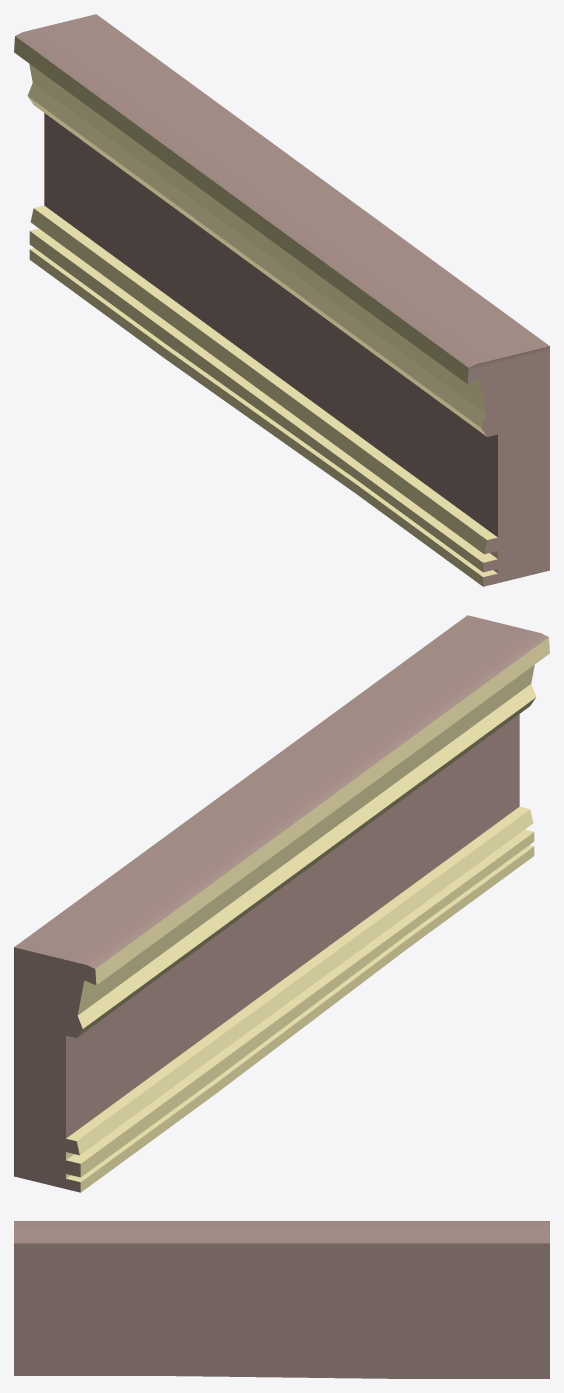
Rendered from wall_connect.fbx.
3 renders of one model, top to bottom at view 1: azimuth 30°, elevation 25°; view 2: azimuth 150°, elevation 25°; view 3: azimuth 270°, elevation 25°, orthographic. The views are drawn at different scales.
Parts seen in each view (by area): view 1: wall_connect; view 2: wall_connect; view 3: wall_connect.
Boxes of the visible parts, <box> form: wall_connect: <box>14,14,549,586</box>; wall_connect: <box>14,615,549,1192</box>; wall_connect: <box>14,1221,549,1378</box>.
Size of the model in its own units: 0.6639 by 1.77 by 6.33.
